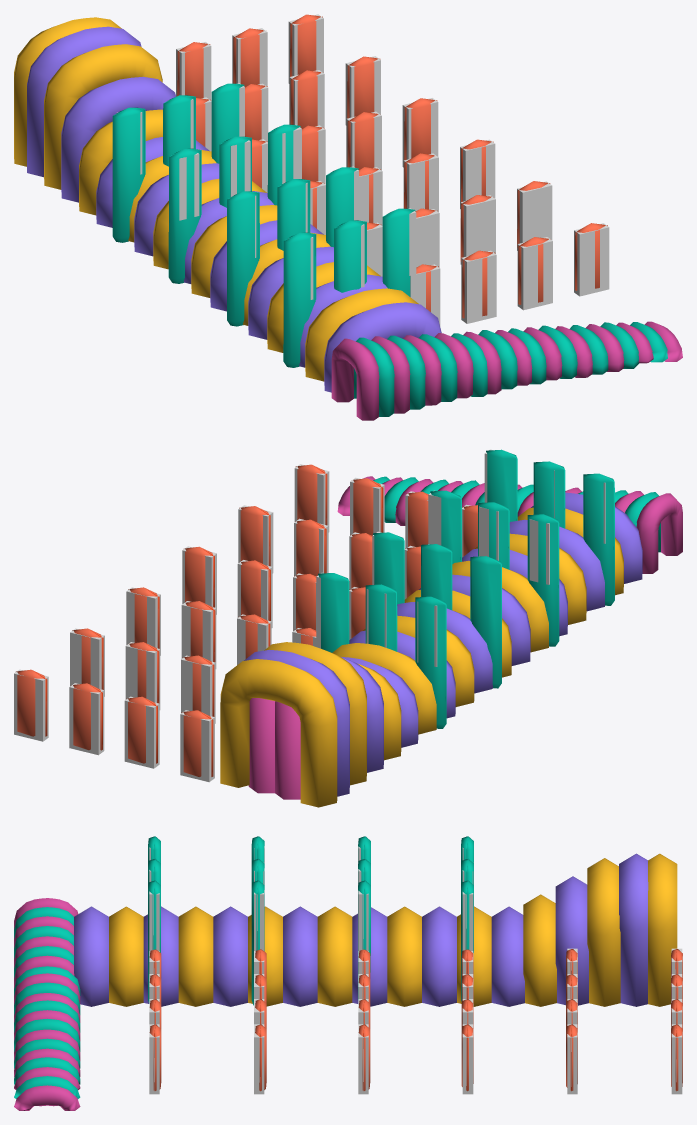
Rendered from course04.glb.
3 views of the same model, one above another, from view 1: azimuth 30°, elevation 25°; view 2: azimuth 150°, elevation 25°; view 3: azimuth 270°, elevation 25° (orthographic). The views are drawn at different scales.
Visible parts, largest first — view 1: c4_bottom_wall_grid.001, archCurve.034, archCurve.037, archCurve.036, c4_upper_wall_grid.001, archCurve.038, Cylinder.550, Cylinder.570, Cylinder.567, archCurve.060, Cylinder.564, archCurve.039 (+40 smaller); view 2: archCurve.034, c4_bottom_wall_grid.001, archCurve.039, c4_upper_wall_grid.001, archCurve.037, Cylinder.564, Cylinder.570, Cylinder.550, archCurve.038, archCurve.060, Cylinder.567, Cylinder.586 (+34 smaller); view 3: archCurve.034, c4_bottom_wall_grid.001, archCurve.037, archCurve.038, archCurve.039, archCurve.035, archCurve.036, c4_upper_wall_grid.001, archCurve.040, Cylinder.569, Cylinder.572, archCurve.047 (+27 smaller).
Boxes of the visible parts, left/top/right/bottom form: c4_bottom_wall_grid.001: left=176, top=14, right=609, bottom=326; archCurve.034: left=96, top=137, right=441, bottom=392; archCurve.037: left=44, top=44, right=162, bottom=189; archCurve.036: left=61, top=76, right=175, bottom=202; c4_upper_wall_grid.001: left=117, top=83, right=416, bottom=299; archCurve.038: left=27, top=26, right=141, bottom=177; Cylinder.550: left=112, top=107, right=145, bottom=242; Cylinder.570: left=283, top=232, right=316, bottom=367; Cylinder.567: left=227, top=191, right=259, bottom=326; archCurve.060: left=331, top=338, right=379, bottom=420; Cylinder.564: left=168, top=148, right=201, bottom=283; archCurve.039: left=14, top=17, right=121, bottom=166; archCurve.034: left=332, top=492, right=642, bottom=747; c4_bottom_wall_grid.001: left=14, top=464, right=470, bottom=782; archCurve.039: left=220, top=659, right=337, bottom=807; c4_upper_wall_grid.001: left=316, top=449, right=605, bottom=666; archCurve.037: left=264, top=642, right=366, bottom=785; Cylinder.564: left=470, top=556, right=501, bottom=688; Cylinder.570: left=583, top=473, right=614, bottom=605; Cylinder.550: left=415, top=596, right=446, bottom=728; archCurve.038: left=244, top=649, right=349, bottom=796; archCurve.060: left=636, top=493, right=682, bottom=573; Cylinder.567: left=527, top=514, right=559, bottom=646; Cylinder.586: left=248, top=698, right=274, bottom=793; archCurve.034: left=74, top=906, right=524, bottom=1006; c4_bottom_wall_grid.001: left=149, top=948, right=682, bottom=1094; archCurve.037: left=587, top=858, right=620, bottom=1006; archCurve.038: left=619, top=853, right=648, bottom=1006; archCurve.039: left=648, top=853, right=677, bottom=1006; archCurve.035: left=523, top=894, right=556, bottom=1006; archCurve.036: left=555, top=876, right=588, bottom=1005; c4_upper_wall_grid.001: left=149, top=839, right=473, bottom=950; archCurve.040: left=14, top=1085, right=80, bottom=1110; Cylinder.569: left=251, top=880, right=264, bottom=1005; Cylinder.572: left=148, top=880, right=160, bottom=1003; archCurve.047: left=14, top=1018, right=80, bottom=1051.
Size of what is drawn, in the model's own units: 16.45 by 7.21 by 32.02.
Materials: 1 (1 with a texture image).
